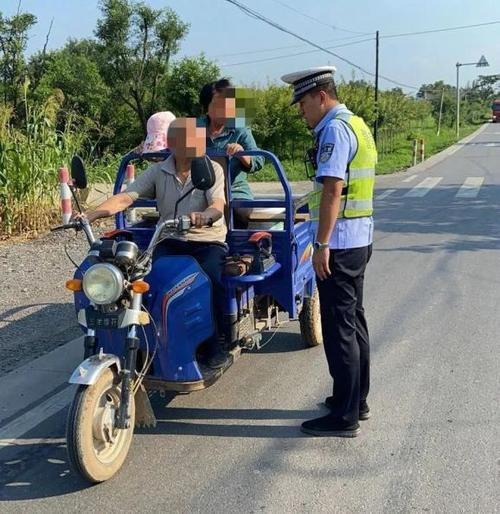driver: (137, 133, 232, 363)
overloading: (42, 82, 366, 478)
passenger: (208, 84, 266, 191), (147, 107, 176, 163)
